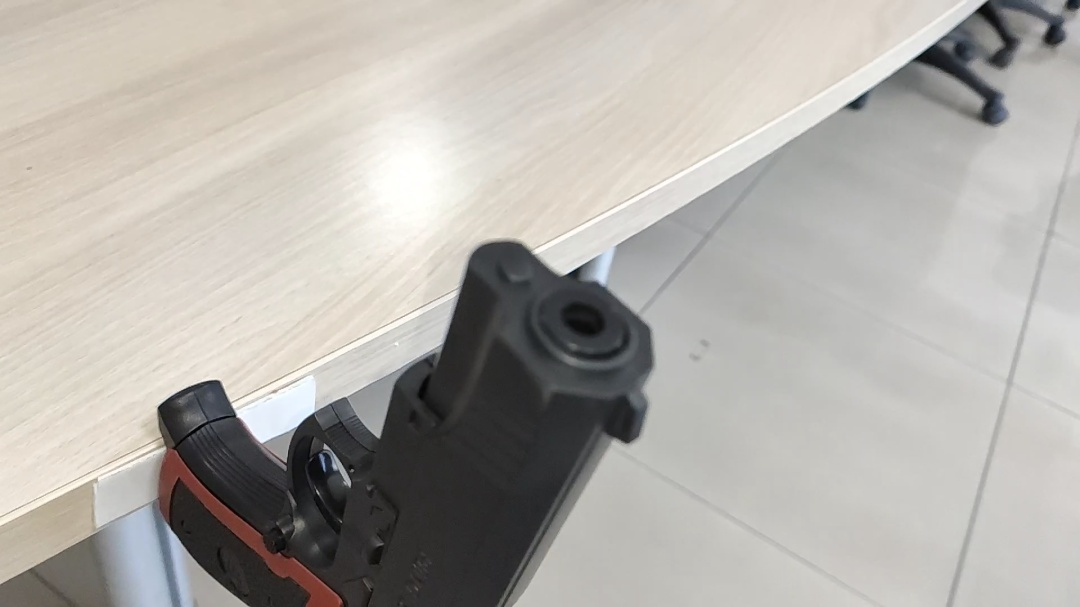gun: (473, 136, 536, 268)
